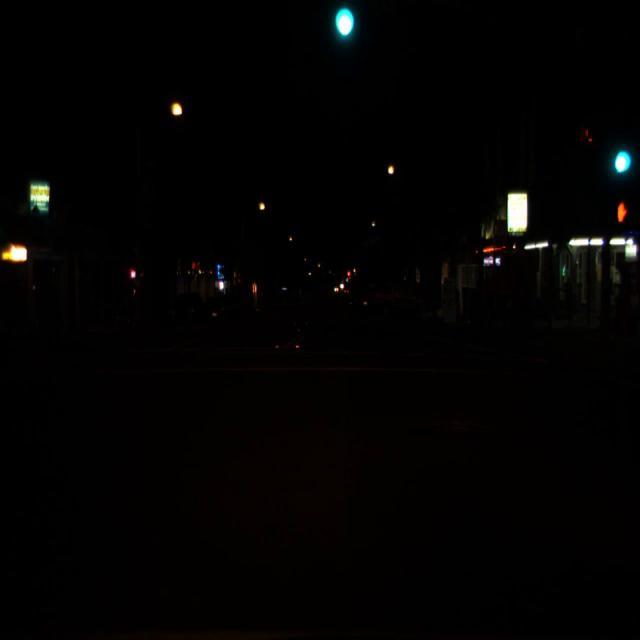go: (614, 153, 628, 172), (339, 16, 351, 34)
go traffic light: (608, 124, 632, 182), (333, 0, 354, 43)
